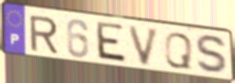6: (66, 18, 90, 59)
E: (95, 20, 129, 66)
Q: (163, 31, 194, 71)
R: (28, 14, 60, 55)
S: (194, 34, 231, 77)
V: (127, 24, 162, 69)
